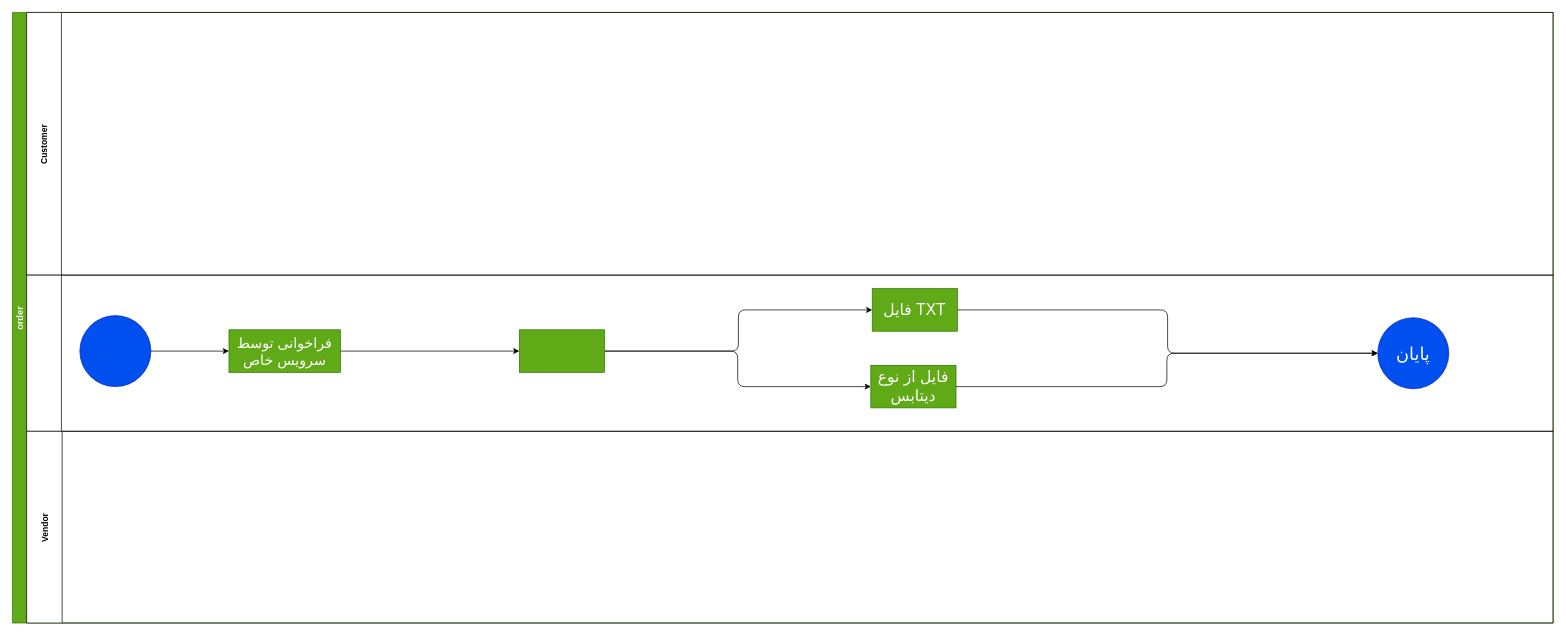
Image size: 1566x635. Some labels were removed from this diagram. The shapes that lost their labels are listed below. From the top down, each one's box as (x1, y1, x2, y2) in pixels, then its label:
(79, 315, 151, 387): شروع
(519, 329, 605, 372): ایجاد گزارش
(26, 274, 1553, 431): Postex
